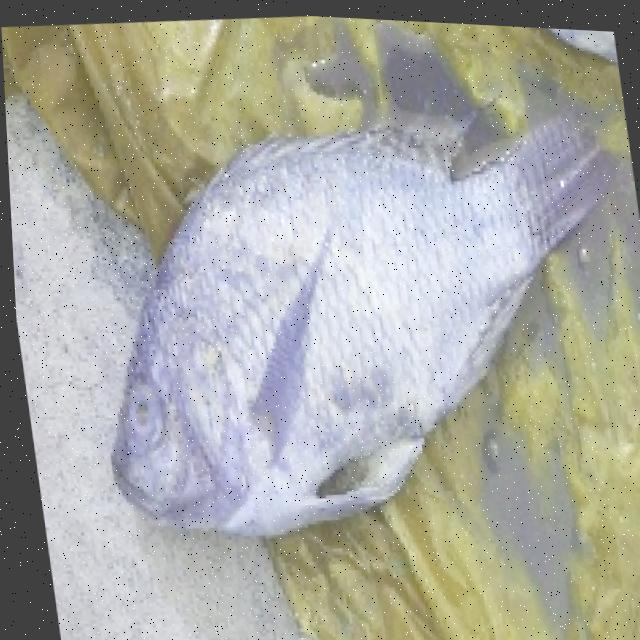Non-Fresh: (46, 209, 531, 581)
